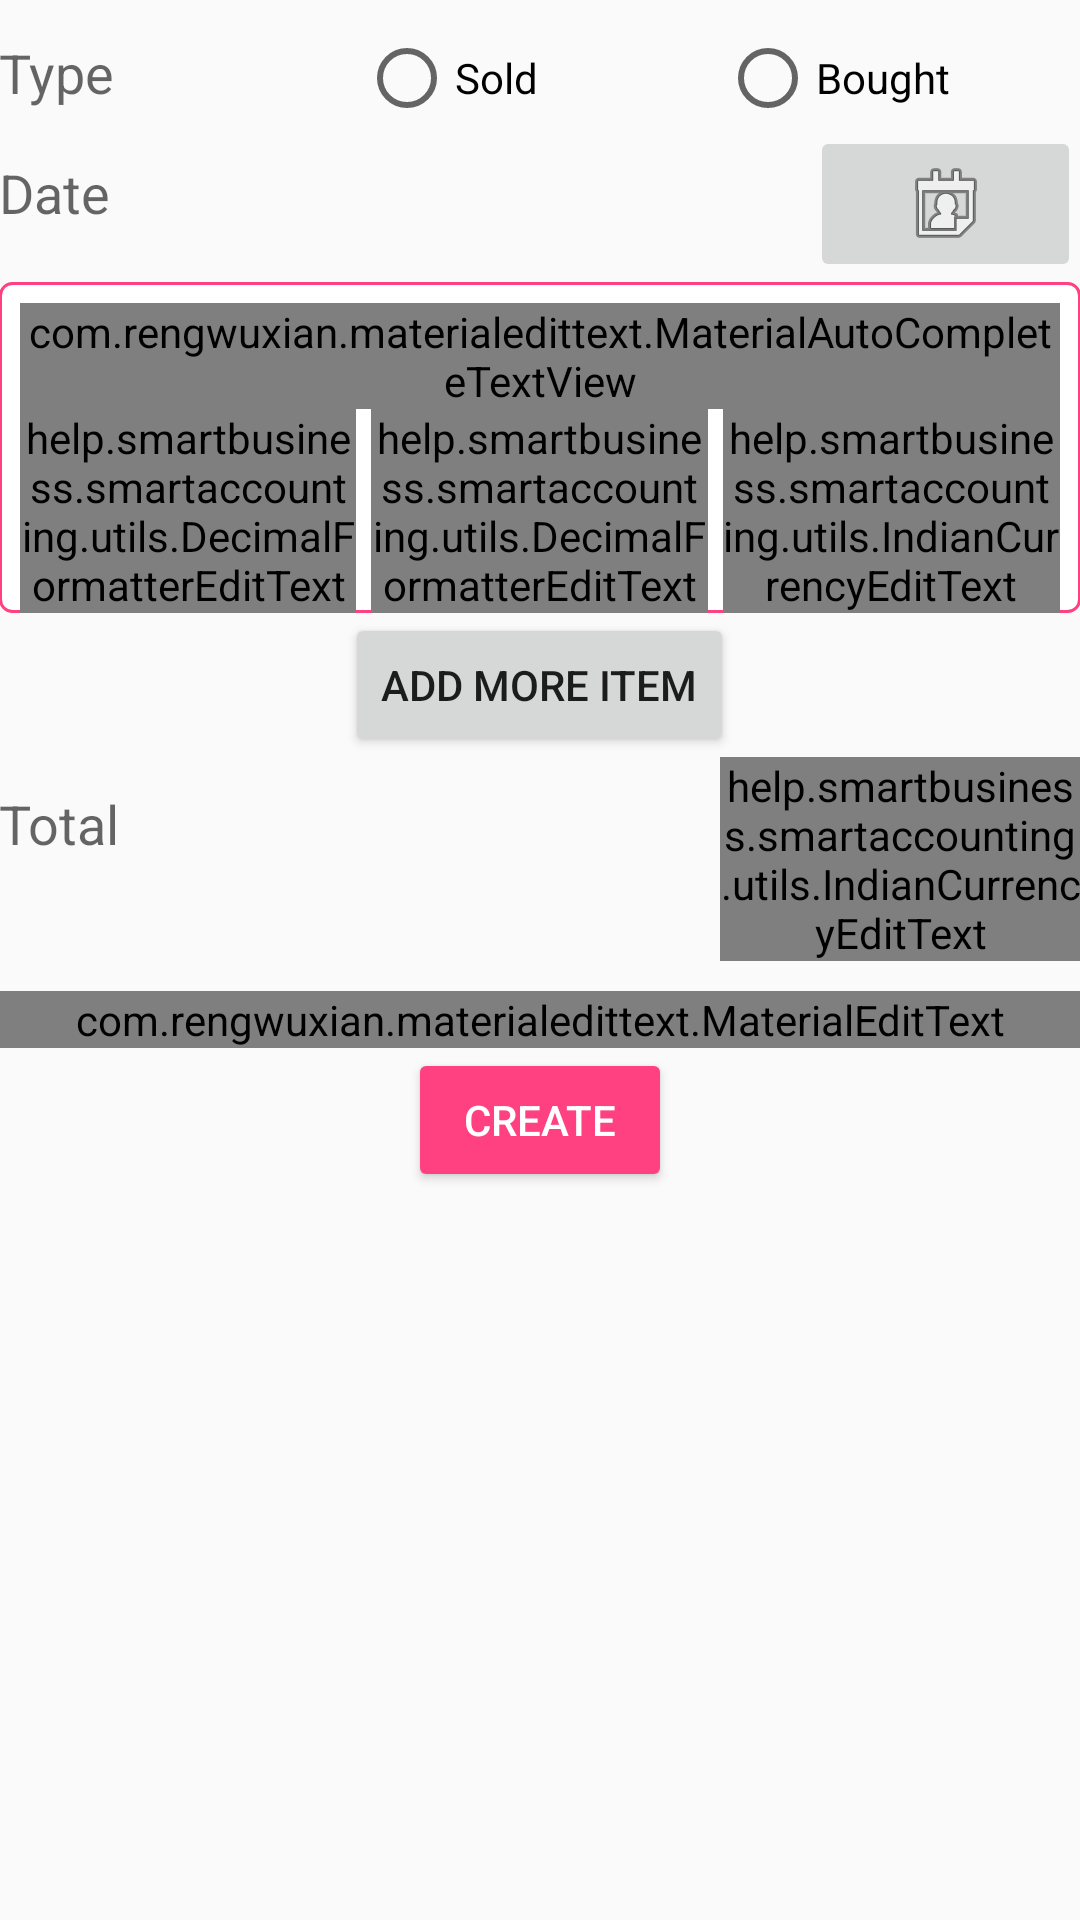

Screen size 1080 × 1920. Icon name, then its box in pixels as (x1, y1, x2, y2):
Calendar: (822, 144, 1069, 264)
